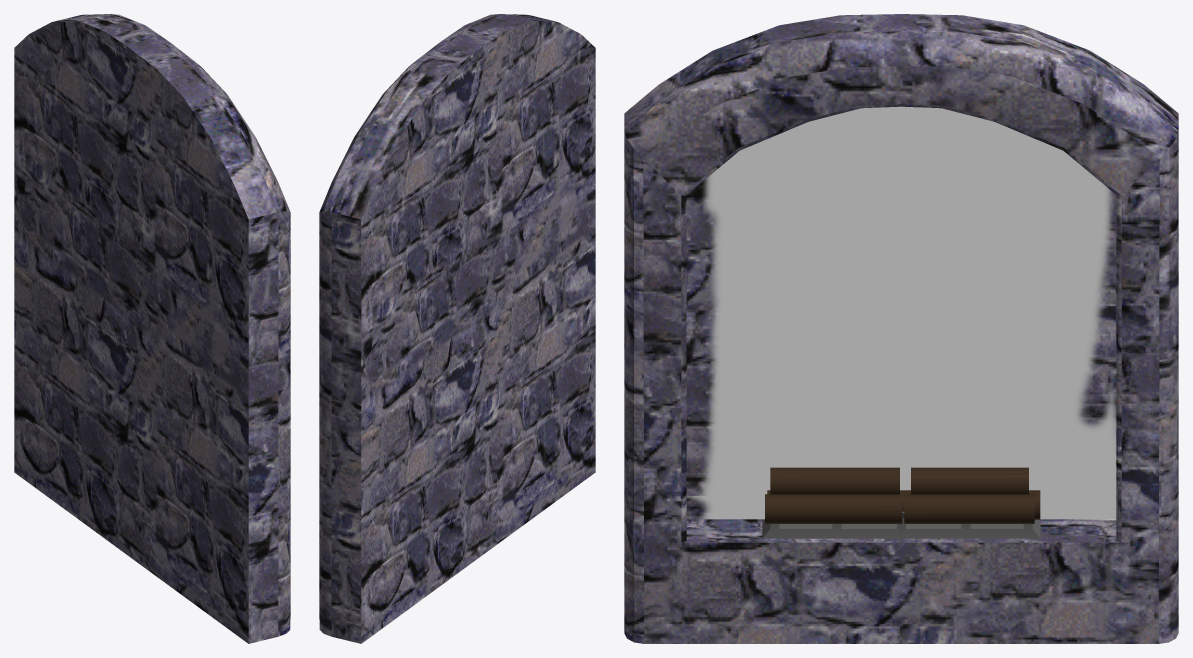
The model's file is SM_chimney.fbx.
3 renders of one model, left to right at view 1: azimuth 30°, elevation 25°; view 2: azimuth 150°, elevation 25°; view 3: azimuth 270°, elevation 25°, orthographic. The views are drawn at different scales.
Visible parts, largest first — view 1: SM_chimney; view 2: SM_chimney; view 3: SM_chimney.
Boxes of the visible parts, bbox=[...] form: SM_chimney: bbox=[14, 14, 290, 643]; SM_chimney: bbox=[319, 14, 595, 643]; SM_chimney: bbox=[624, 14, 1178, 643].
Bounding box in the file's own units: 20.43 × 200 × 167.
